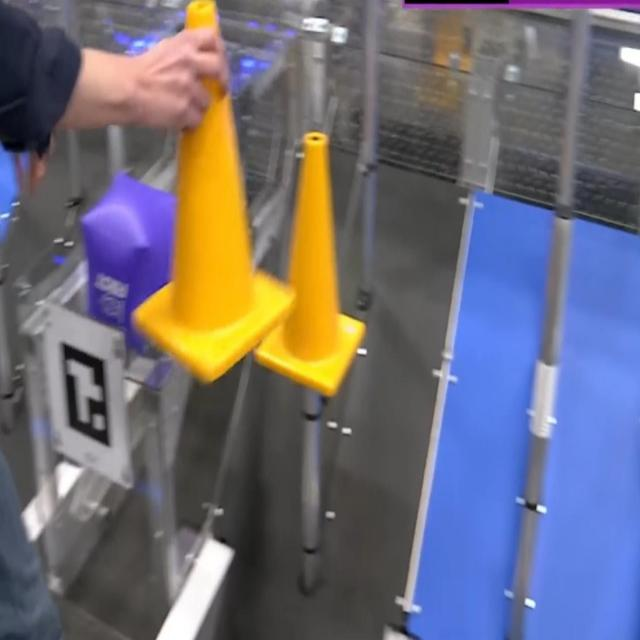frc_cone: (130, 0, 296, 385), (252, 132, 367, 398)
frc_cube: (86, 171, 173, 356)
